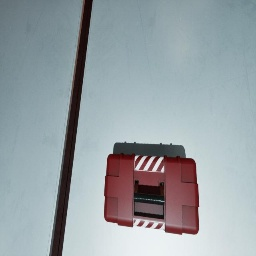FirstAidBox ,: (104, 153, 199, 235)
